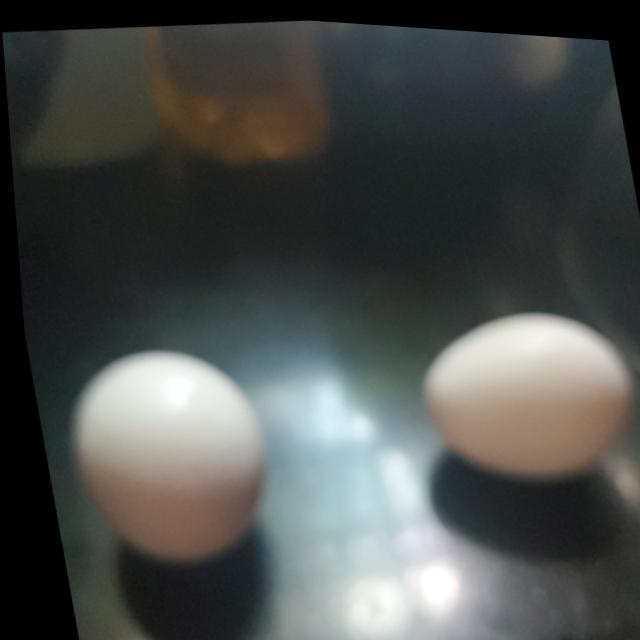egg: (45, 329, 284, 580), (404, 289, 640, 495)
